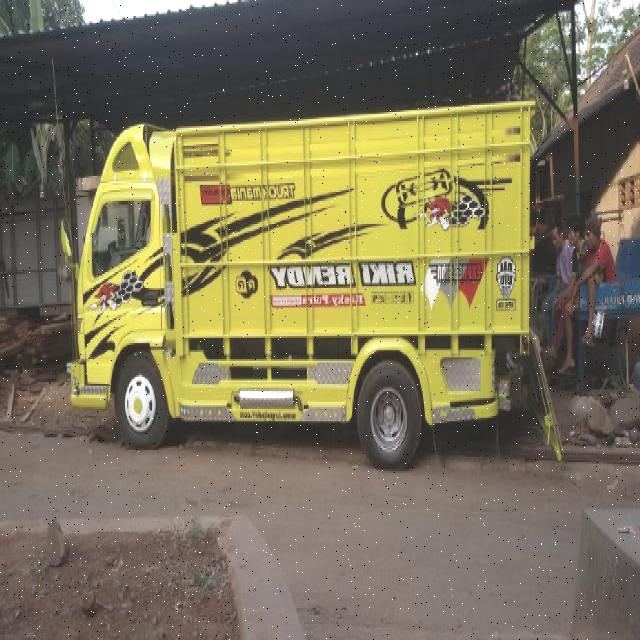truck: (61, 101, 538, 459)
